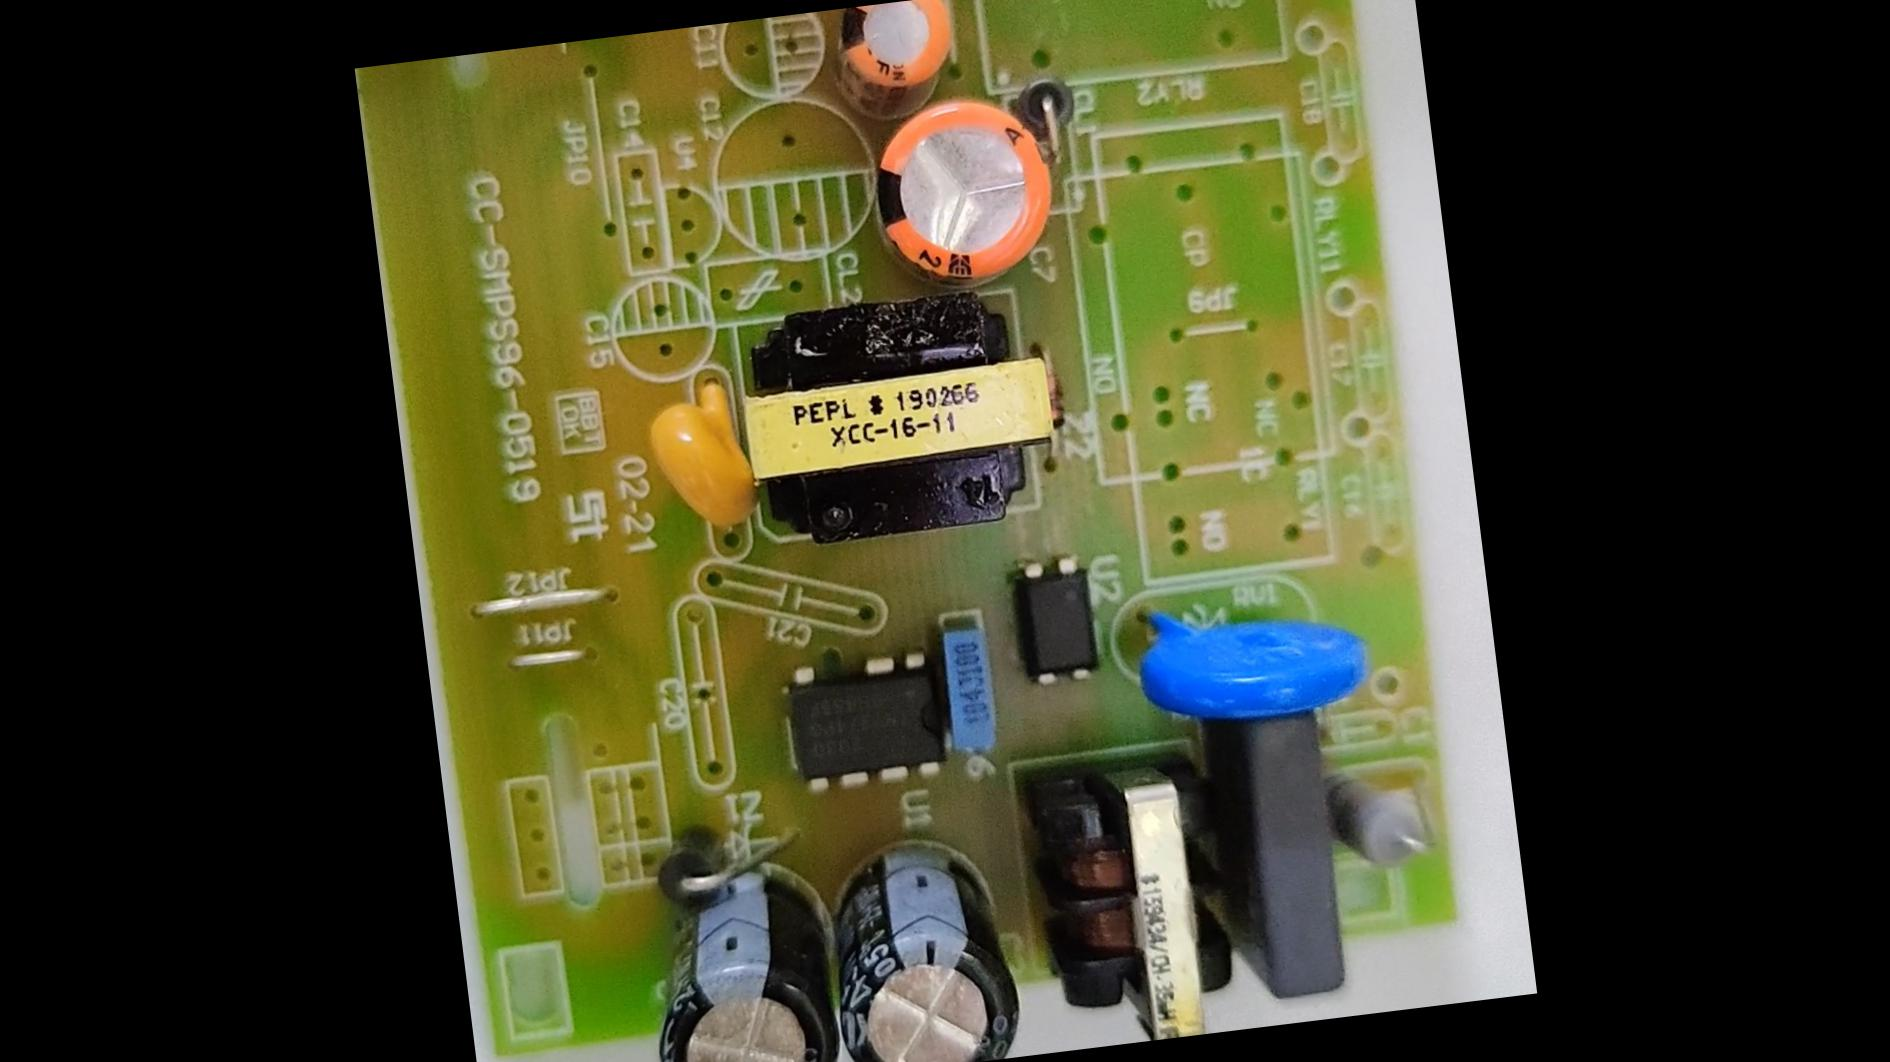Cap1: (849, 84, 1067, 299)
Cap2: (816, 0, 968, 101)
Cap3: (816, 824, 1035, 1061)
Cap4: (618, 844, 853, 1061)
MOSFET: (767, 641, 951, 805)
Mov: (1112, 582, 1381, 743)
Resistor: (1319, 752, 1442, 893)
Transformer: (719, 273, 1075, 560), (1003, 757, 1253, 1053)
